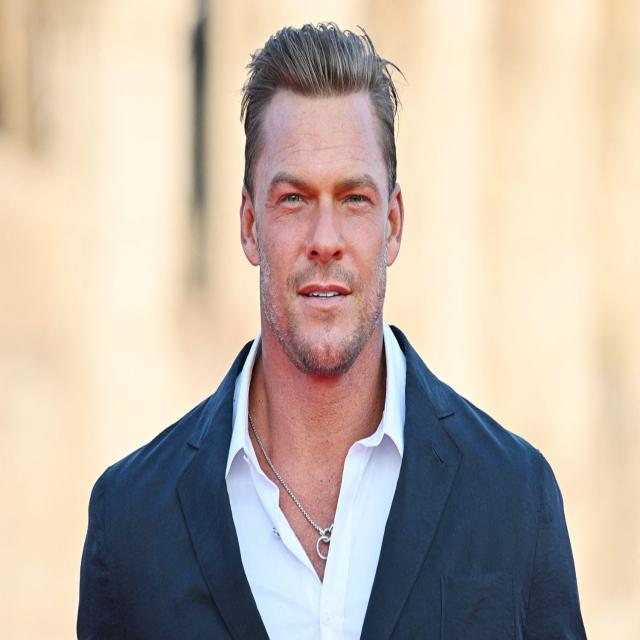sem_oculos: (227, 137, 420, 228)
